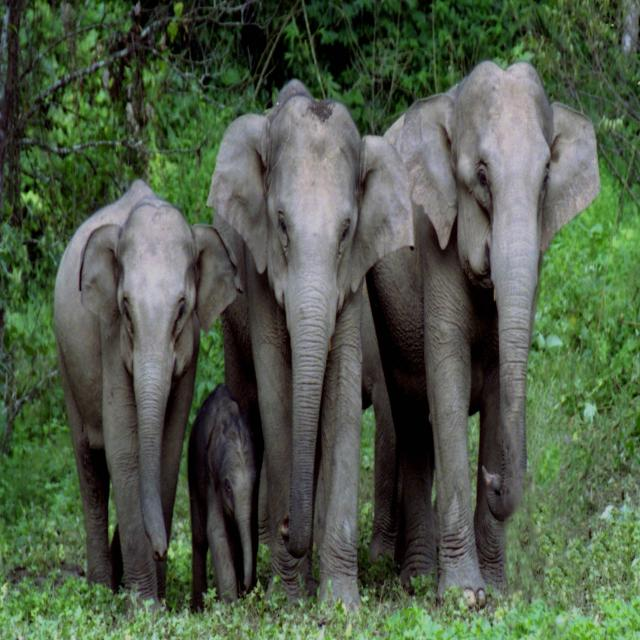Elephant: (388, 64, 597, 606), (210, 77, 377, 622), (49, 171, 200, 606), (185, 380, 276, 604)
